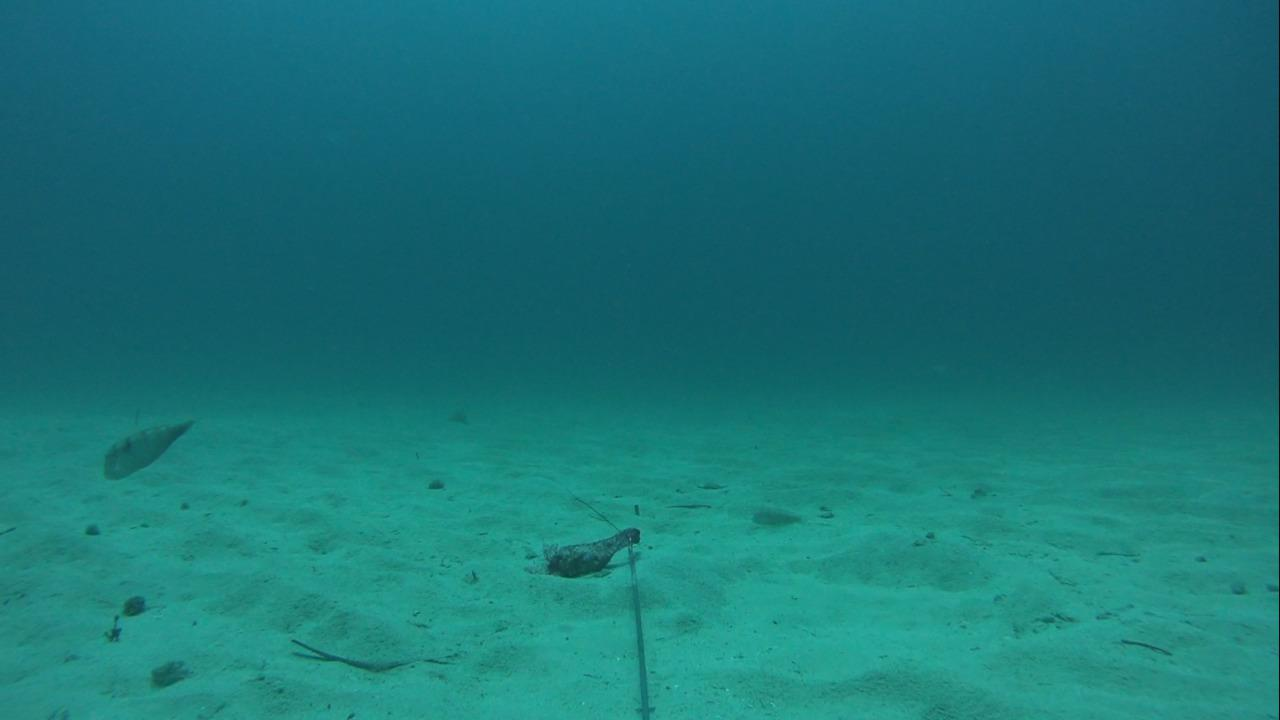raor: (99, 412, 199, 481), (745, 502, 806, 533)
